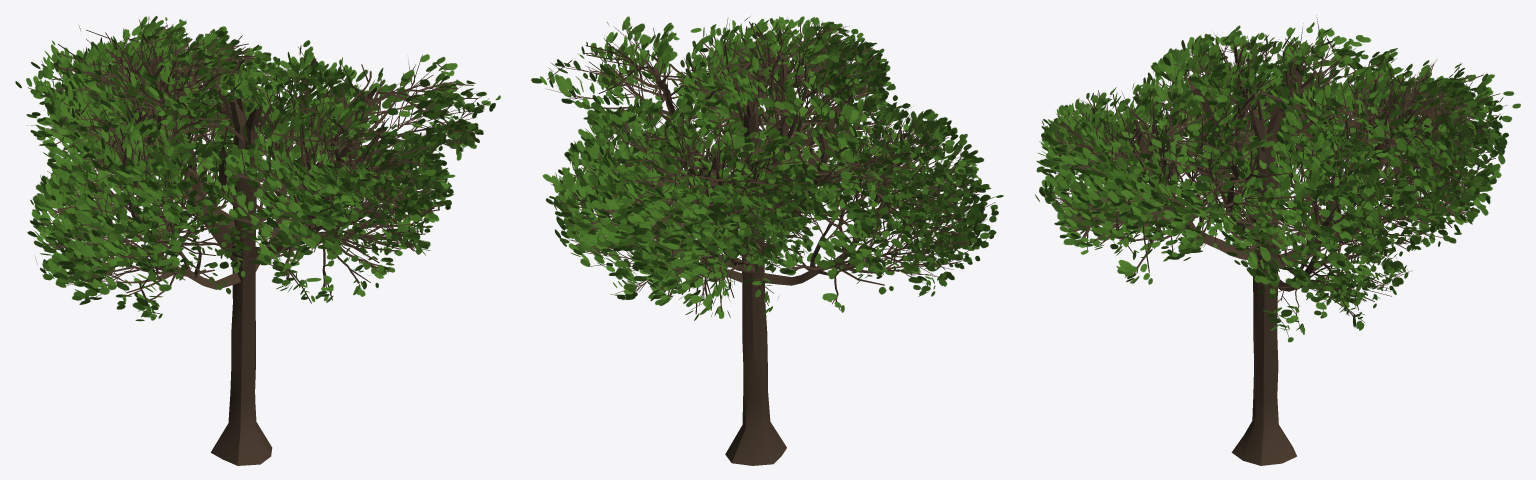
The picture shows the model from 3 angles, left to right: view 1: azimuth 30°, elevation 25°; view 2: azimuth 150°, elevation 25°; view 3: azimuth 270°, elevation 25°; orthographic projection.
Visible parts, largest first — view 1: oak 01.001_trunk_Mat.001_0.117; view 2: oak 01.001_trunk_Mat.001_0.117; view 3: oak 01.001_trunk_Mat.001_0.117.
Part boxes in pixels (x1,y1,x2,y2): oak 01.001_trunk_Mat.001_0.117: (15,16,500,465); oak 01.001_trunk_Mat.001_0.117: (531,16,1003,465); oak 01.001_trunk_Mat.001_0.117: (1035,17,1520,465).
Bounding box in the file's own units: 5.25 × 4.16 × 5.08.
Materials: 2 (1 with a texture image).
